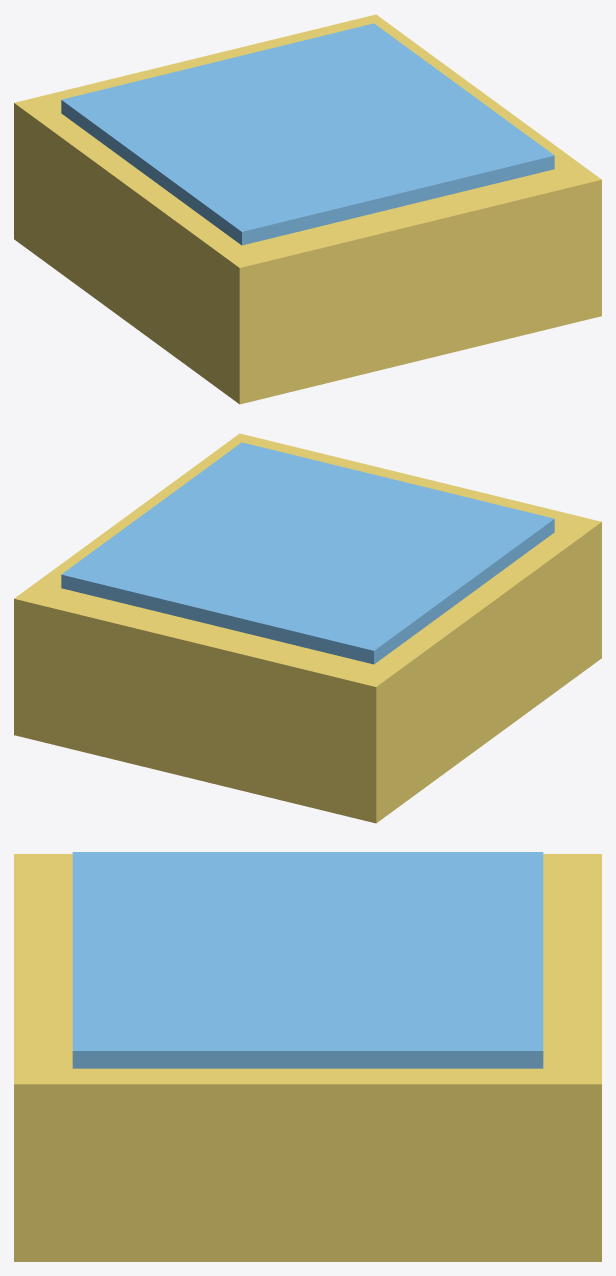
The model's file is Prop_Pet_AMF_Bowl_V3.glb.
The picture shows the model from 3 angles, top to bottom: view 1: azimuth 30°, elevation 25°; view 2: azimuth 150°, elevation 25°; view 3: azimuth 270°, elevation 25°; orthographic projection. The views are drawn at different scales.
Parts seen in each view (by area): view 1: Prop_Pet_AMF_Bowl_V3; view 2: Prop_Pet_AMF_Bowl_V3; view 3: Prop_Pet_AMF_Bowl_V3.
Part boxes in pixels (left/top/right/bottom): Prop_Pet_AMF_Bowl_V3: left=14, top=14, right=601, bottom=404; Prop_Pet_AMF_Bowl_V3: left=14, top=433, right=601, bottom=823; Prop_Pet_AMF_Bowl_V3: left=14, top=852, right=601, bottom=1261.
Bounding box in the file's own units: 0.2779 × 0.11 × 0.3.
